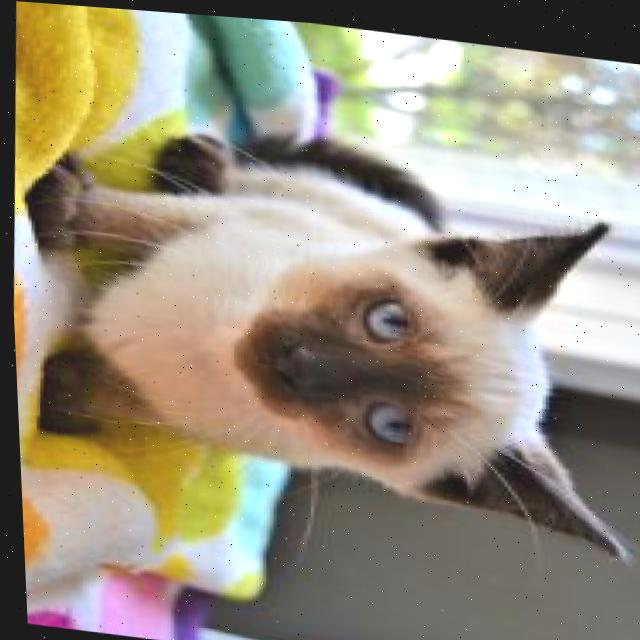Siamese: (3, 93, 640, 560)
